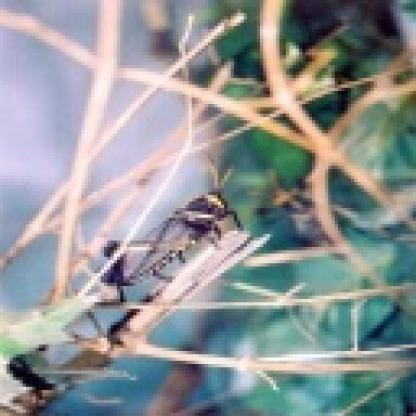grasshopper: (84, 180, 251, 308)
